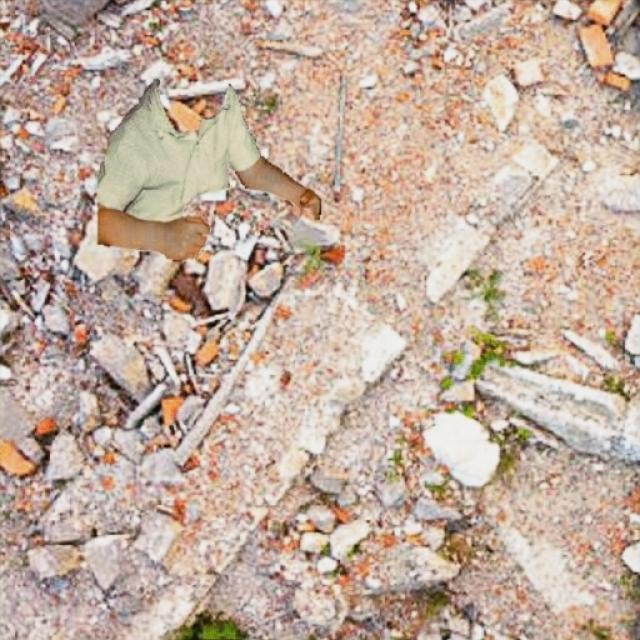Person in Rubble: (97, 79, 320, 260)
